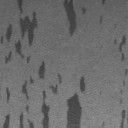red iron: (3, 0, 62, 128), (67, 76, 86, 128), (64, 0, 86, 36), (119, 35, 128, 76), (120, 110, 126, 128), (102, 122, 105, 128), (100, 16, 102, 24)
